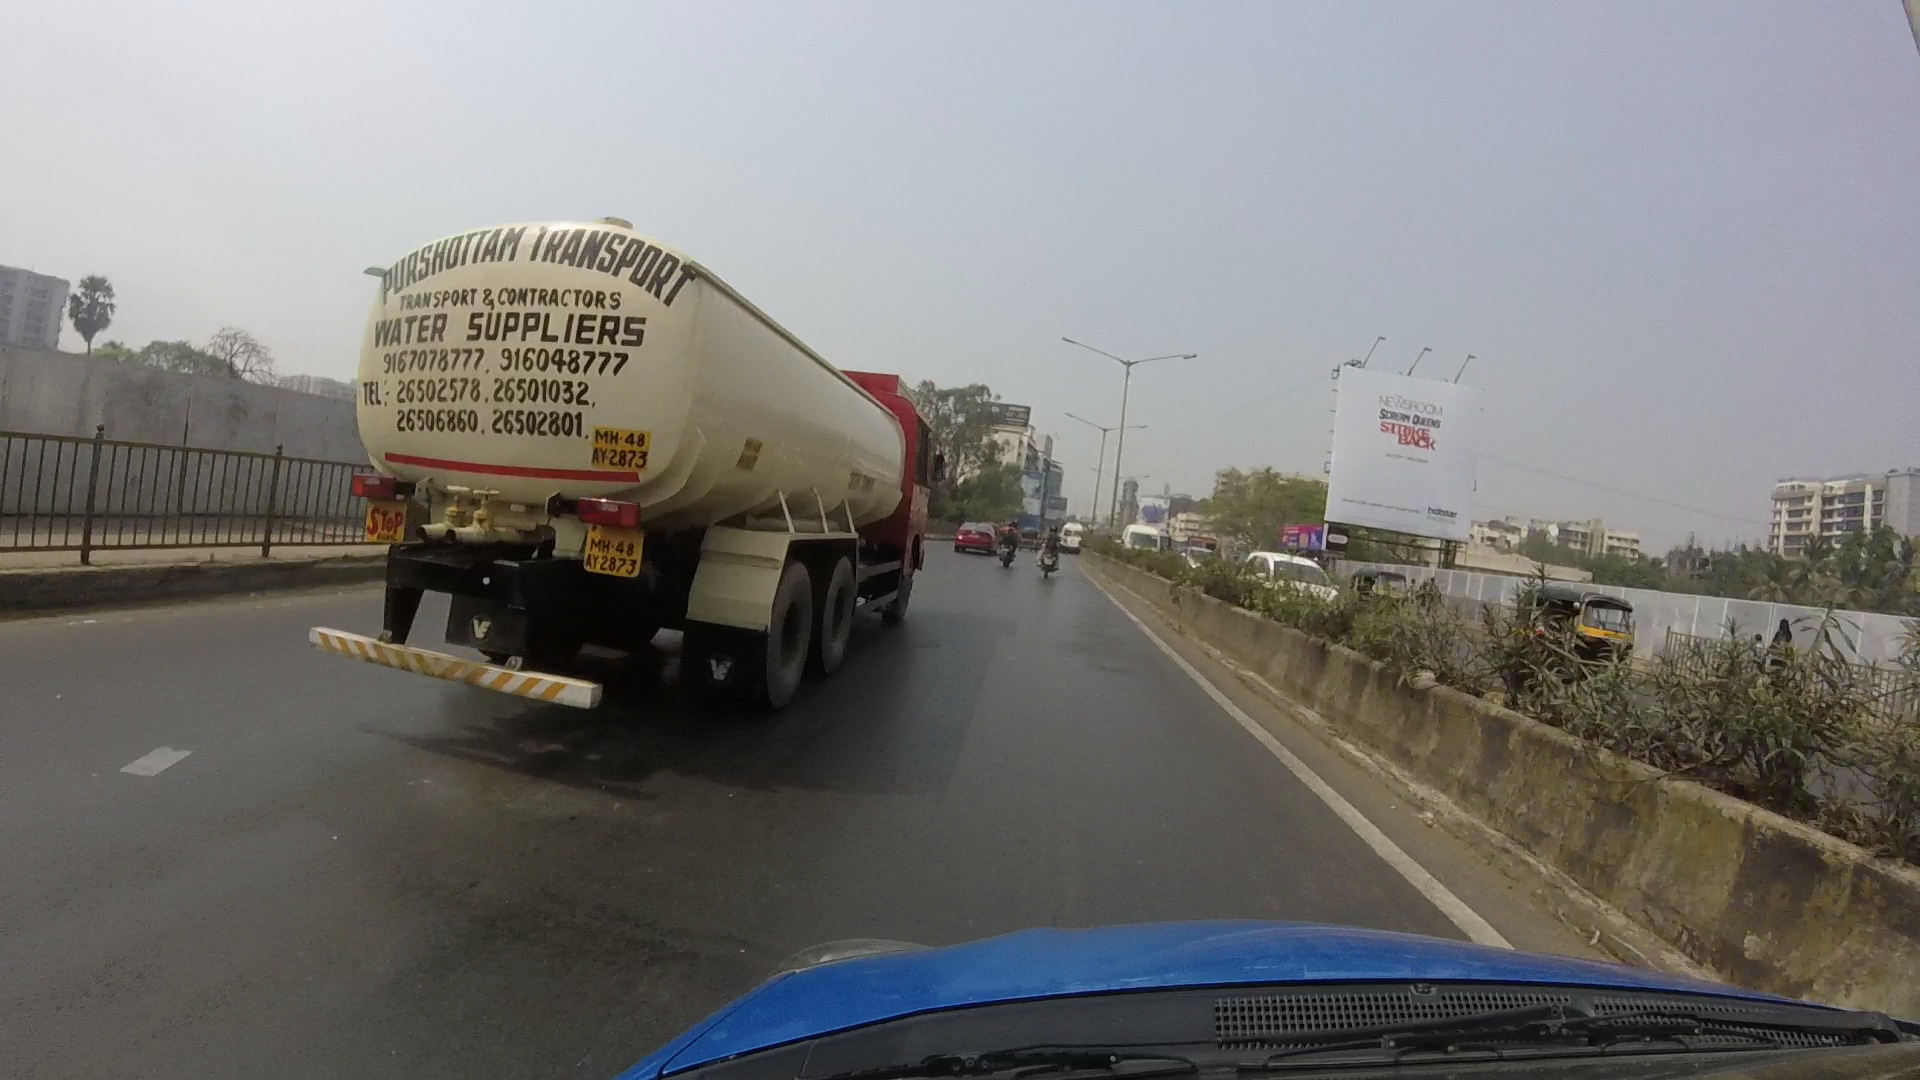bike/scooter: (1030, 520, 1069, 593), (992, 518, 1025, 575)
car: (1236, 537, 1341, 615), (942, 504, 1000, 560)
rickshaw: (1524, 574, 1643, 688)
truck: (289, 175, 953, 742)
